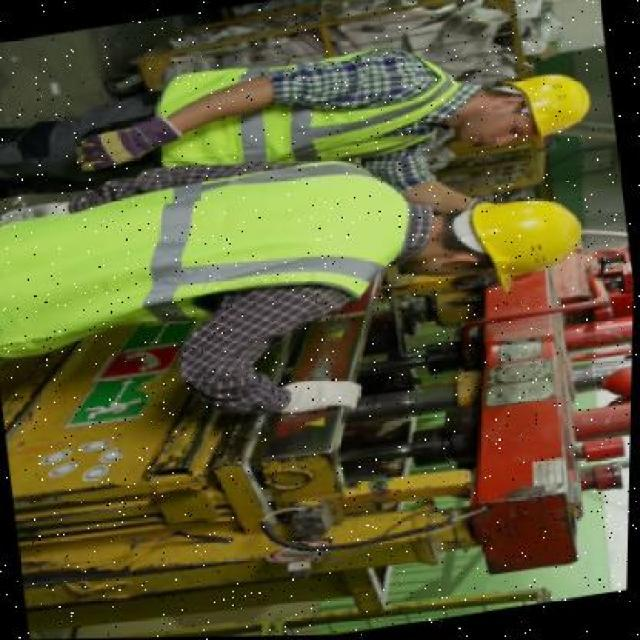helmet: (454, 179, 593, 301), (490, 63, 599, 147)
vest: (0, 159, 405, 359), (142, 34, 474, 190)
